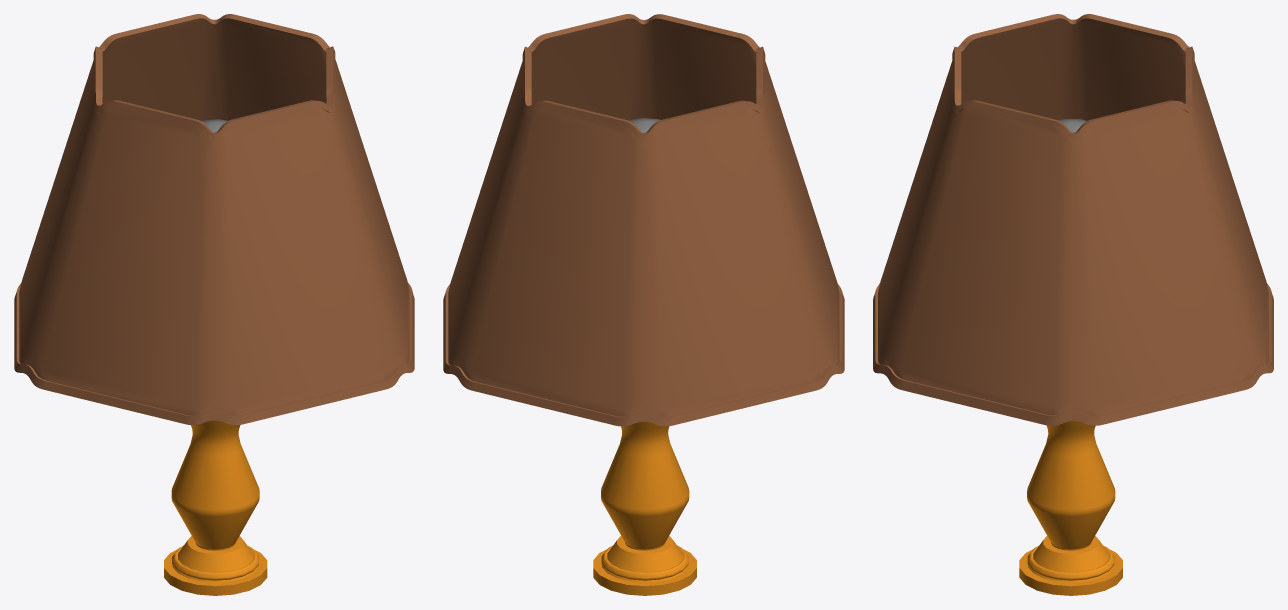
File: lampe.fbx
The picture shows the model from 3 angles, left to right: view 1: azimuth 30°, elevation 25°; view 2: azimuth 150°, elevation 25°; view 3: azimuth 270°, elevation 25°; orthographic projection.
Visible parts, largest first — view 1: Cylinder009; view 2: Cylinder009; view 3: Cylinder009.
Boxes of the visible parts, x1,y1,x2,y2 form: Cylinder009: (14,14,414,595); Cylinder009: (443,14,844,595); Cylinder009: (873,14,1273,595).
Size of the model in its own units: 0.2948 by 0.3766 by 0.2703.
